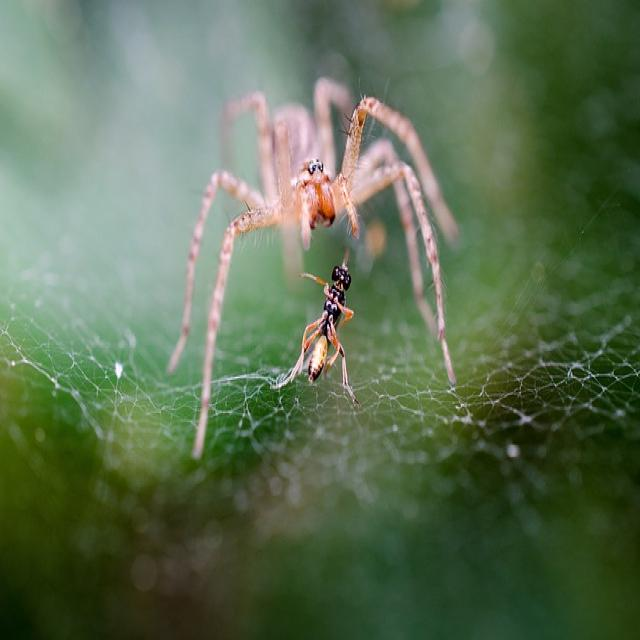spyder: (168, 78, 459, 457)
